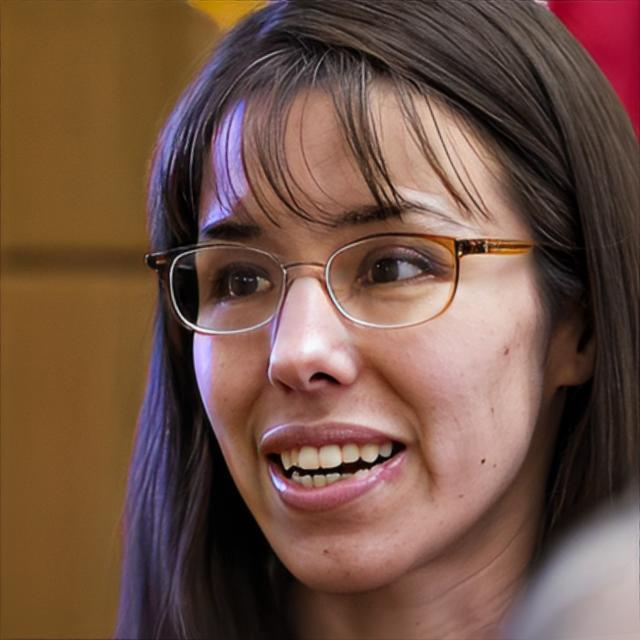disgust: (192, 69, 552, 598)
